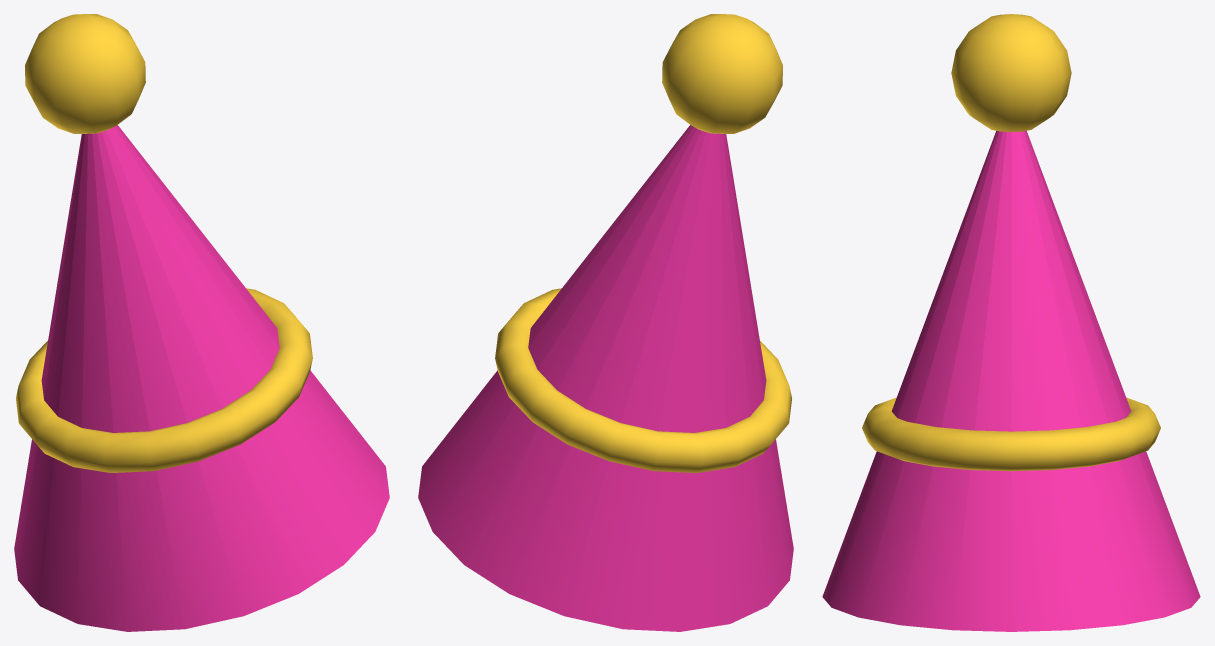
File: Hat_party.glb
The picture shows the model from 3 angles, left to right: view 1: azimuth 30°, elevation 25°; view 2: azimuth 150°, elevation 25°; view 3: azimuth 270°, elevation 25°; orthographic projection. The views are drawn at different scales.
Visible parts, largest first — view 1: Hat_Party_Cone_0, Hat_Party_Band_1, Hat_Party_Pom_2; view 2: Hat_Party_Cone_0, Hat_Party_Band_1, Hat_Party_Pom_2; view 3: Hat_Party_Cone_0, Hat_Party_Band_1, Hat_Party_Pom_2.
Part boxes in pixels (bbox=[...]): Hat_Party_Cone_0: bbox=[14, 125, 389, 631]; Hat_Party_Band_1: bbox=[16, 288, 312, 472]; Hat_Party_Pom_2: bbox=[25, 14, 145, 133]; Hat_Party_Cone_0: bbox=[418, 125, 793, 631]; Hat_Party_Band_1: bbox=[495, 288, 791, 472]; Hat_Party_Pom_2: bbox=[662, 14, 782, 133]; Hat_Party_Cone_0: bbox=[822, 131, 1200, 631]; Hat_Party_Band_1: bbox=[862, 397, 1160, 471]; Hat_Party_Pom_2: bbox=[951, 14, 1071, 131].
Size of the model in its own units: 0.3269 by 0.5433 by 0.33.
